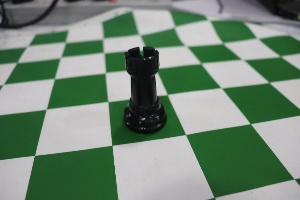black_rook: (116, 31, 178, 141)
